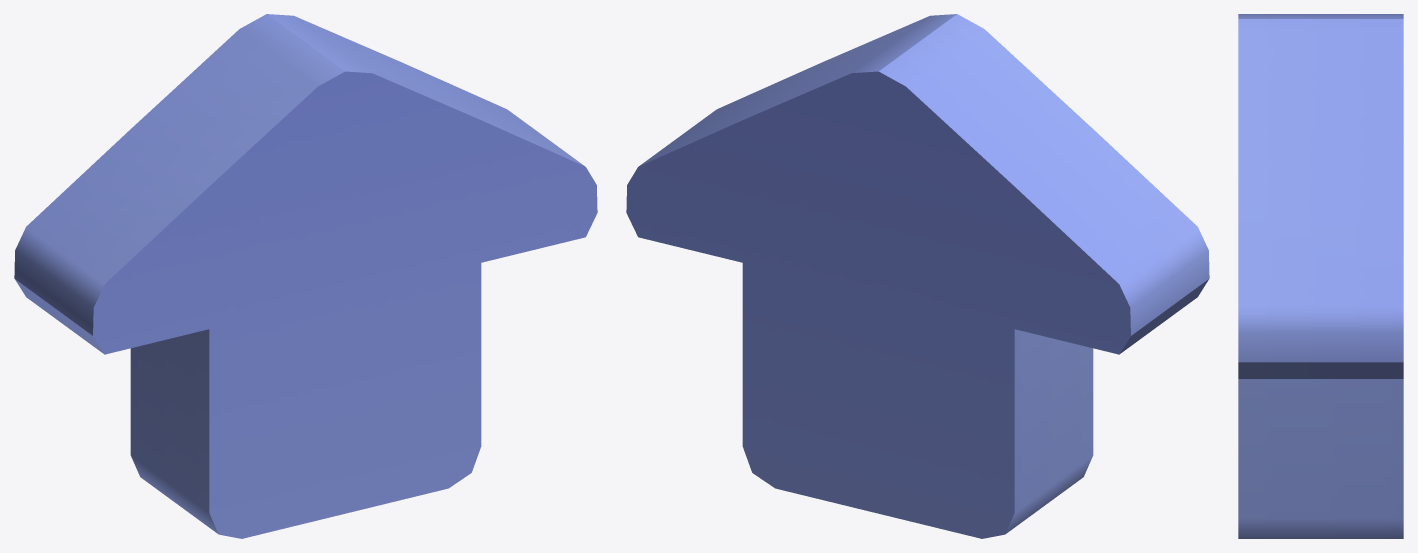
File: PR_Arrow_01.fbx
The picture shows the model from 3 angles, left to right: view 1: azimuth 30°, elevation 25°; view 2: azimuth 150°, elevation 25°; view 3: azimuth 270°, elevation 25°; orthographic projection. The views are drawn at different scales.
Visible parts, largest first — view 1: PR_Arrow_01; view 2: PR_Arrow_01; view 3: PR_Arrow_01.
Part boxes in pixels (<box>): PR_Arrow_01: <box>14,14,597,538</box>; PR_Arrow_01: <box>626,14,1209,538</box>; PR_Arrow_01: <box>1238,14,1403,538</box>.
Size of the model in its own units: 37.09 by 31.06 by 10.
